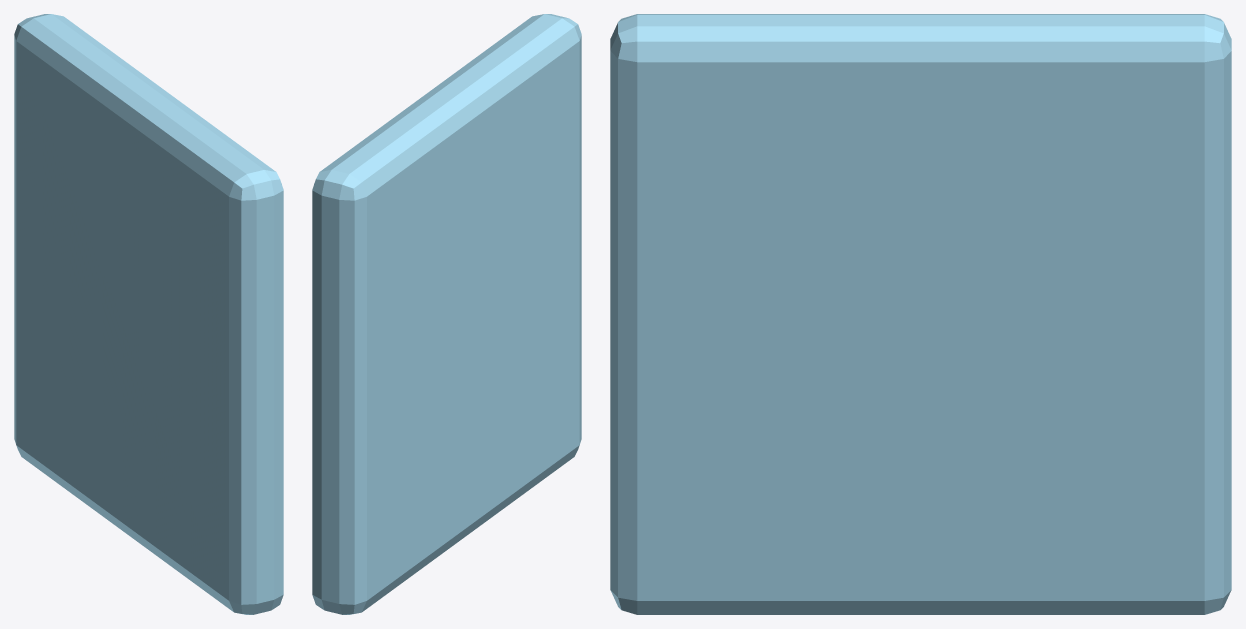
The picture shows the model from 3 angles, left to right: view 1: azimuth 30°, elevation 25°; view 2: azimuth 150°, elevation 25°; view 3: azimuth 270°, elevation 25°; orthographic projection. The views are drawn at different scales.
Visible parts, largest first — view 1: node; view 2: node; view 3: node.
Part boxes in pixels (x1,y1,x2,y2): node: [14, 14, 283, 614]; node: [312, 14, 581, 614]; node: [610, 14, 1231, 614].
Bounding box in the file's own units: 0.003 × 0.023 × 0.024.
